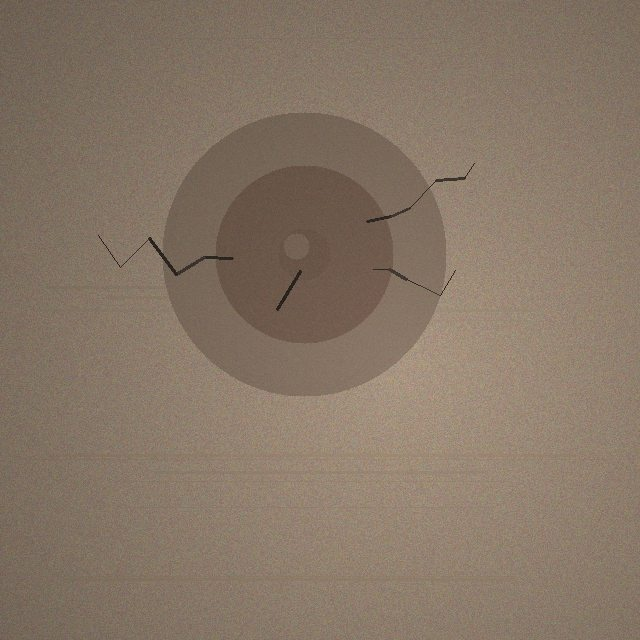crack: (162, 112, 446, 396)
